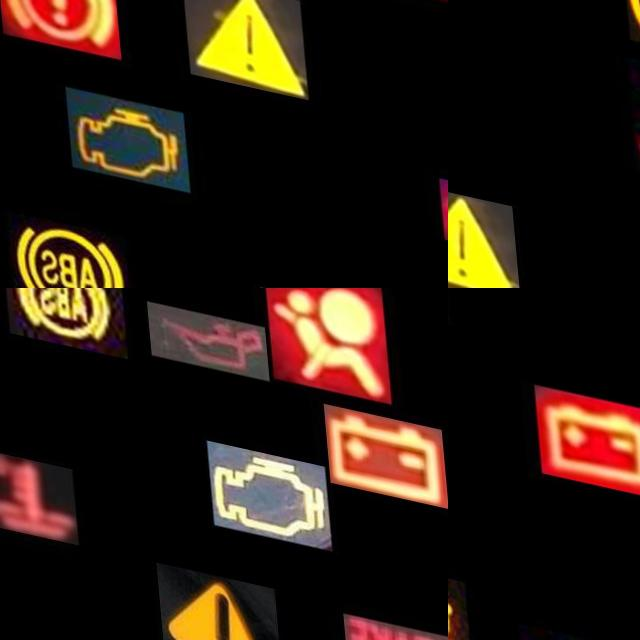Central Warning lamp: (148, 553, 274, 640), (178, 0, 303, 85), (448, 177, 509, 288)
Engine cooling system: (0, 443, 70, 540), (508, 610, 634, 640)
